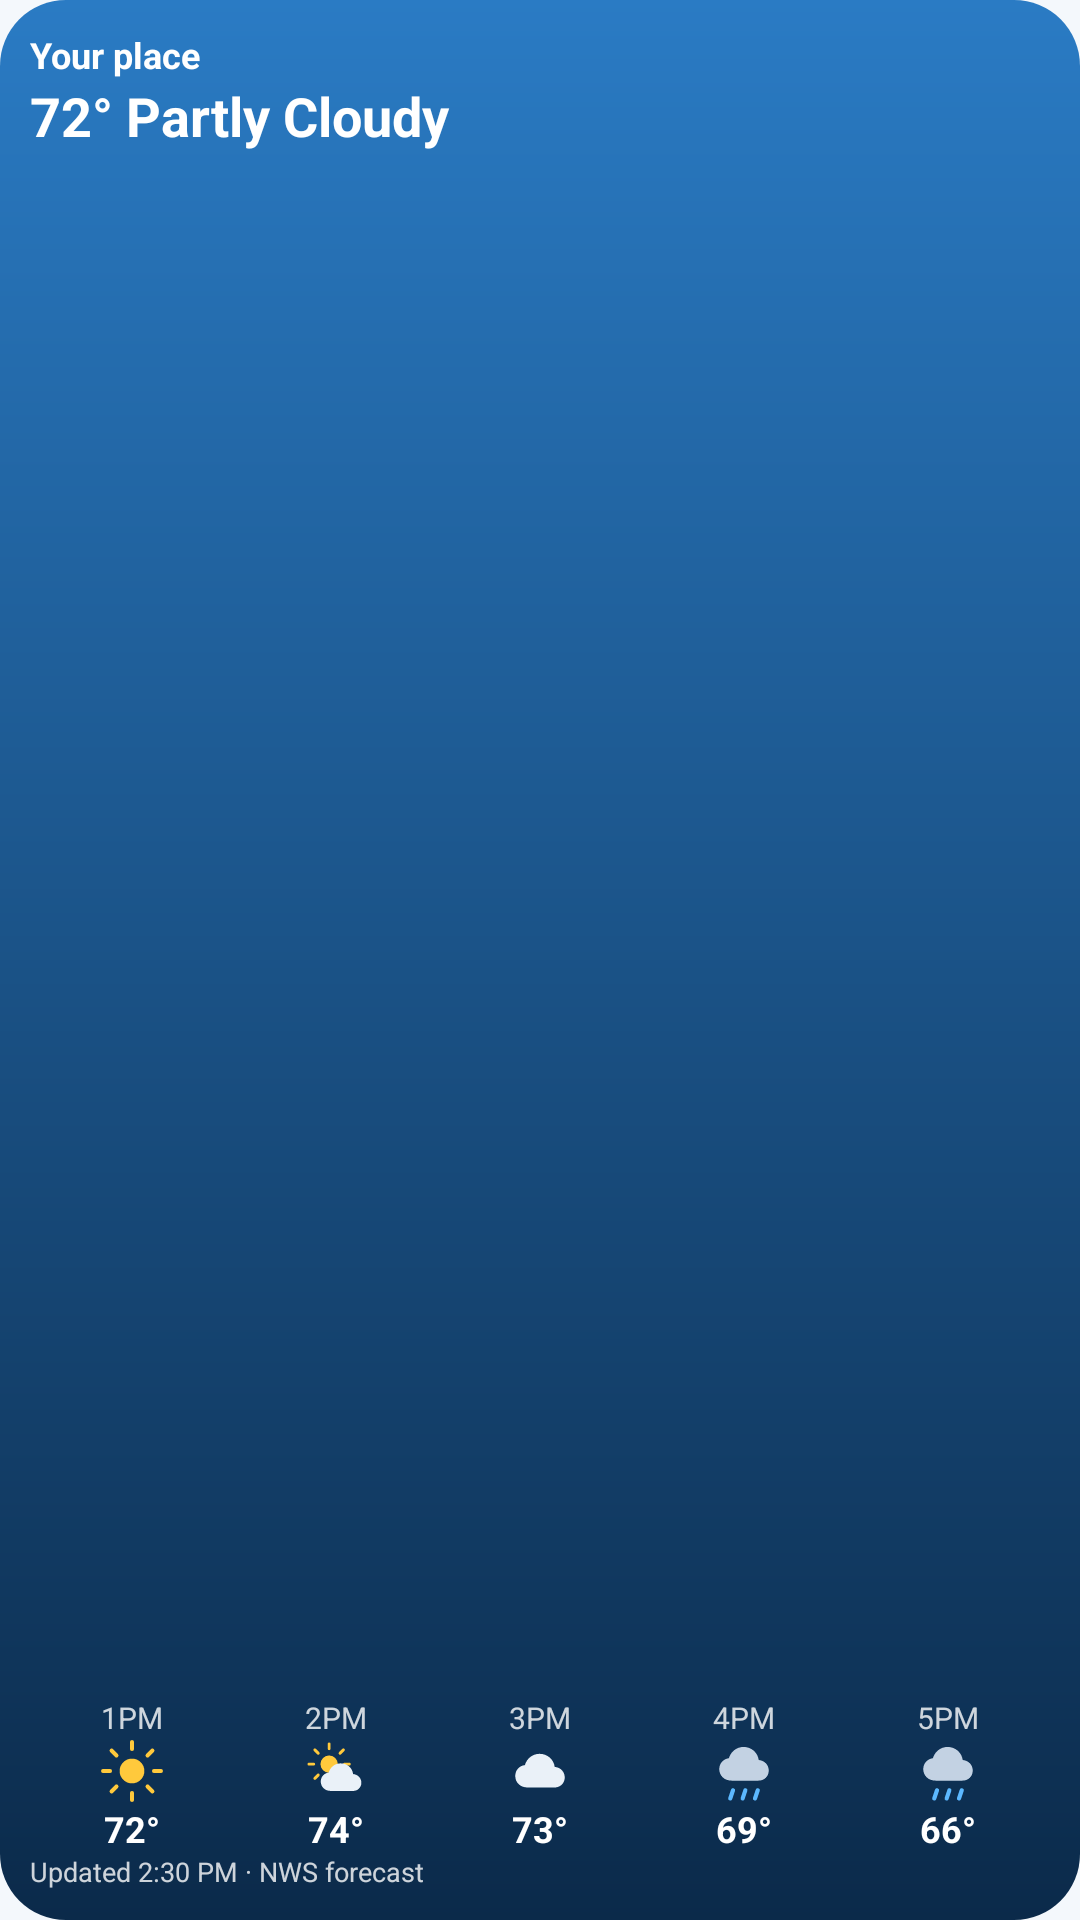

Screen size 1080px x 1920px. Icon name, then its center in pixels as [x,y]:
cloud: [540,1770]
partly day: [334,1766]
rain: [744,1774], [948,1774]
sun: [132,1771]
